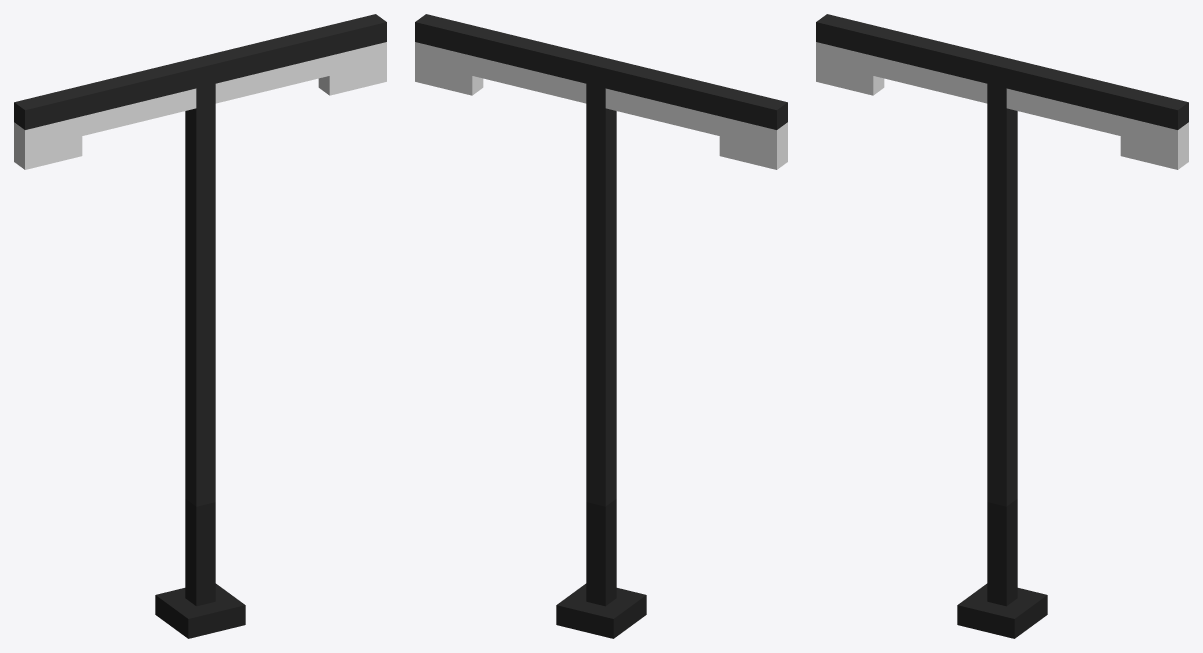
Rendered from ConstructionMaterials-59.obj.
3 renders of one model, left to right at view 1: azimuth 30°, elevation 25°; view 2: azimuth 150°, elevation 25°; view 3: azimuth 330°, elevation 25°, orthographic.
Size of the model in its own units: 1.9 by 2.8 by 0.3.
1 material, 1 textured.
